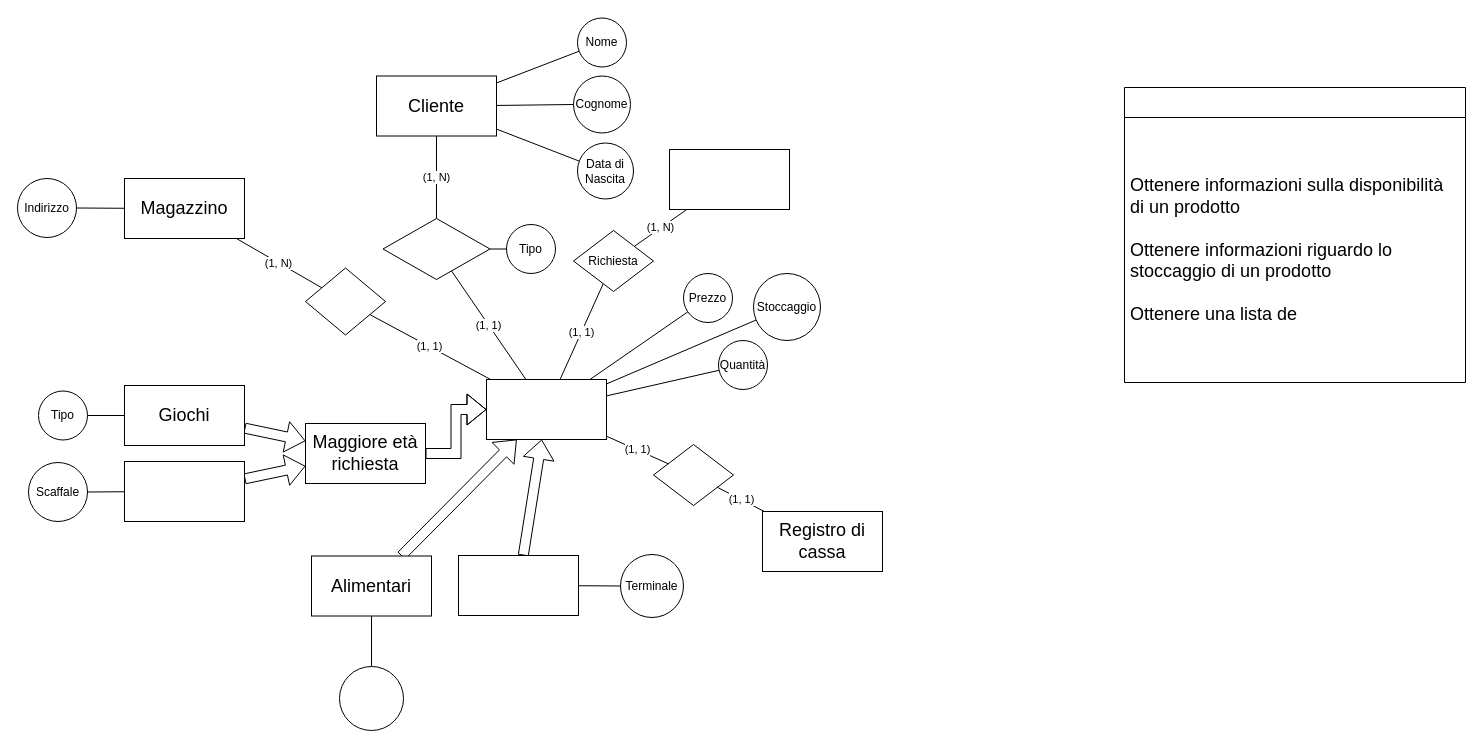
Some shapes in this 1483 by 748 pixel diagram are drawn without their labels. The box of each missing label's shape, as (x1, y1, x2, y2) in pixels:
Contabilità: (652, 444, 734, 506)
Data di scadenza: (338, 666, 404, 730)
Ingrosso: (304, 267, 386, 335)
Livello di Domanda: (668, 148, 790, 210)
Operazioni: (1124, 86, 1466, 382)
Prodotto: (486, 378, 606, 440)
Servizi ausiliari: (458, 554, 578, 616)
Tabacchi: (124, 460, 244, 522)
Transazione: (382, 218, 490, 280)
